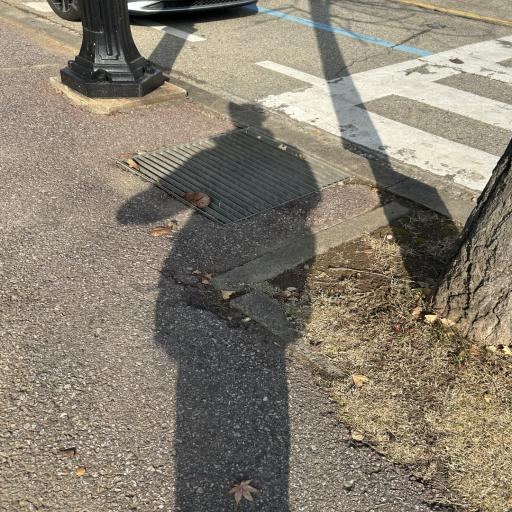drain: (132, 128, 349, 225)
